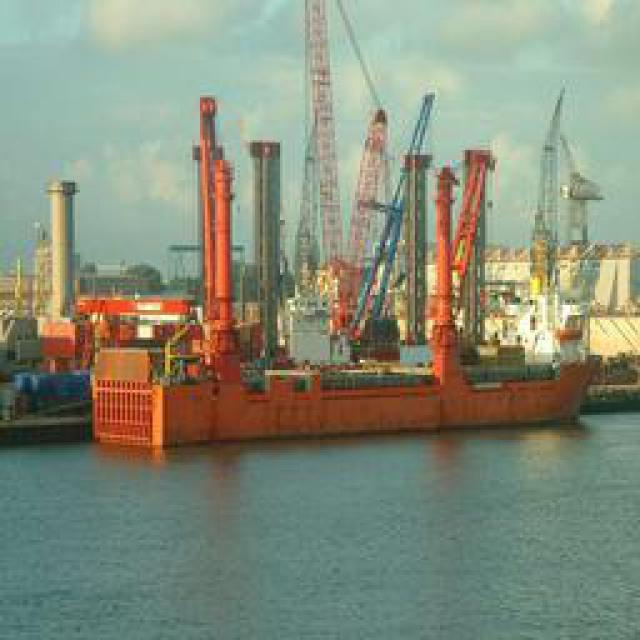Ship: (98, 330, 603, 443)
